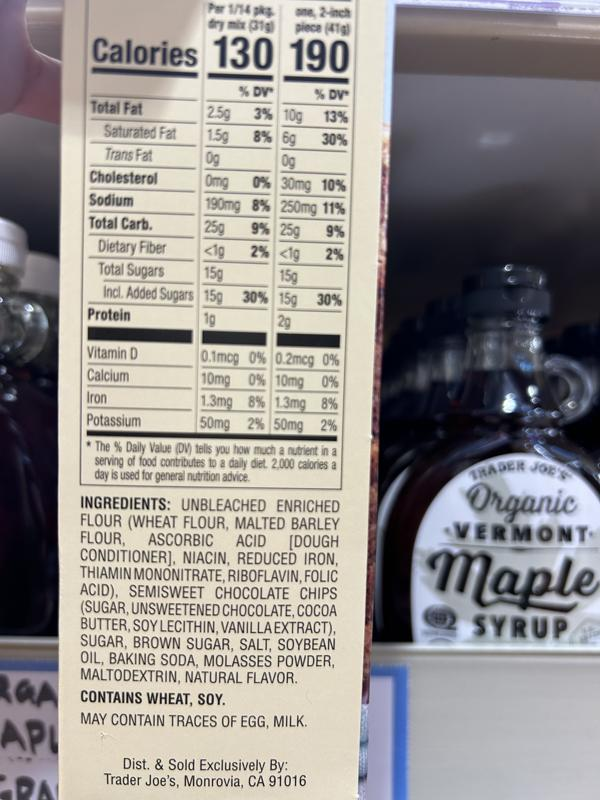ingredients: (76, 493, 343, 687)
